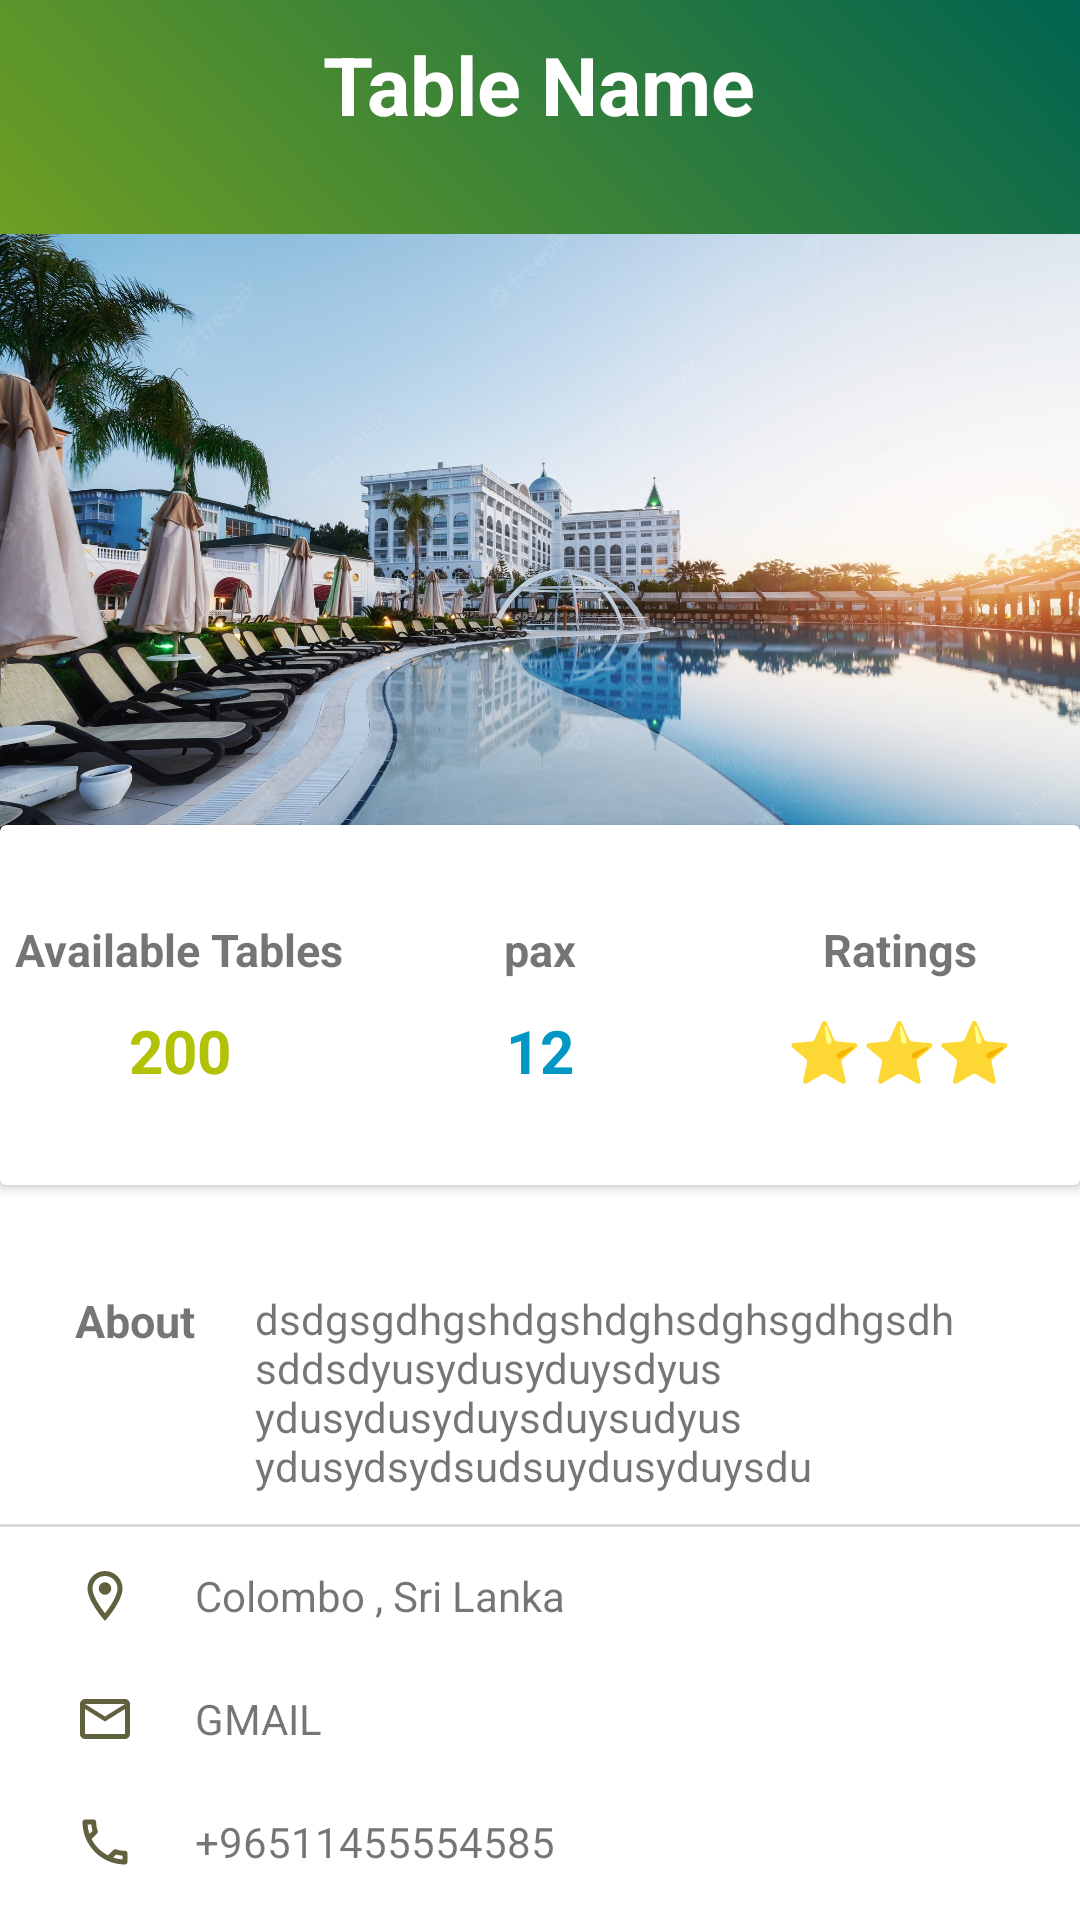

Where icons sit on this 1080px x 1920px app screen, as bbox=[x1, y1, x2, y2]:
call: bbox=[82, 1819, 128, 1865]
location on: bbox=[87, 1571, 123, 1621]
